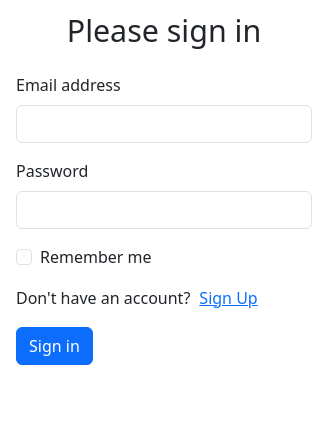
Test: displays error message when email is invalid
This screenshot has width=329, height=426.
Type "invalidemail" into the field labelled "Email address" at (164, 124), box [16,104,312,142]
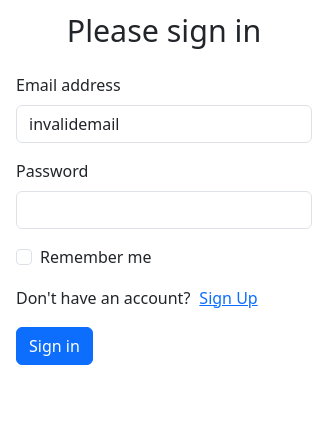
Click the button "Sign in" at (54, 346), box [16,326,93,364]
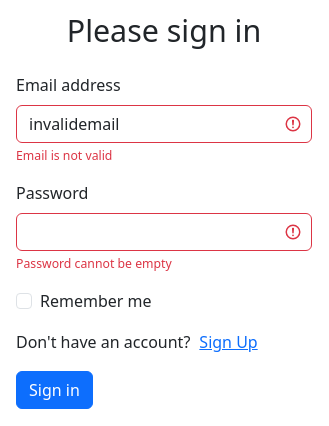
Check: the text "Email is not valid" is shown, box [16,146,112,164]
